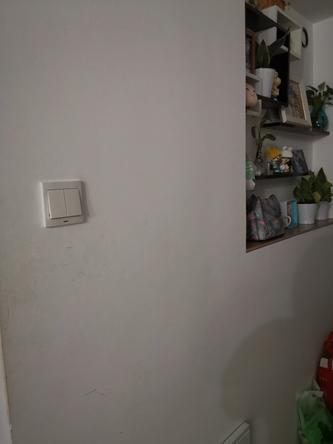switch: (59, 184, 85, 220), (43, 185, 67, 222)
